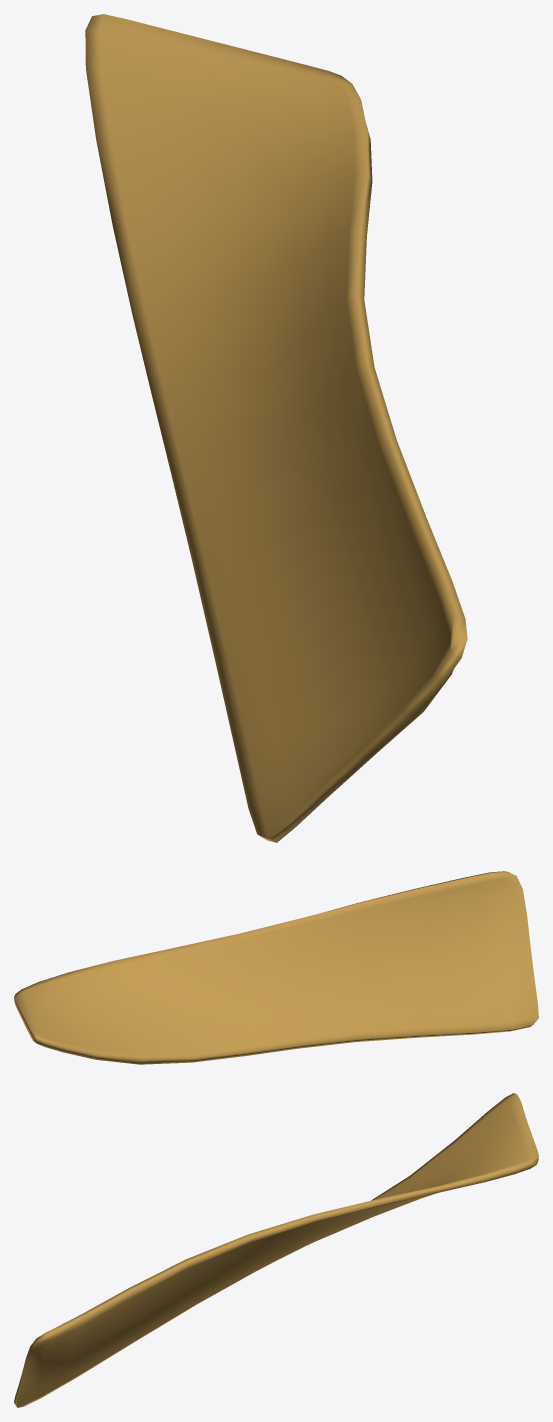
3 views of the same model, one above another, from view 1: azimuth 30°, elevation 25°; view 2: azimuth 150°, elevation 25°; view 3: azimuth 330°, elevation 25° (orthographic). The views are drawn at different scales.
Parts seen in each view (by area): view 1: 左侧髂股韧带横部; view 2: 左侧髂股韧带横部; view 3: 左侧髂股韧带横部.
Part boxes in pixels (x1=…): 左侧髂股韧带横部: x1=85, y1=14, x2=467, y2=842; 左侧髂股韧带横部: x1=14, y1=871, x2=538, y2=1064; 左侧髂股韧带横部: x1=14, y1=1093, x2=538, y2=1407.
Bounding box in the file's own units: 0.0371 × 0.0193 × 0.0758.
